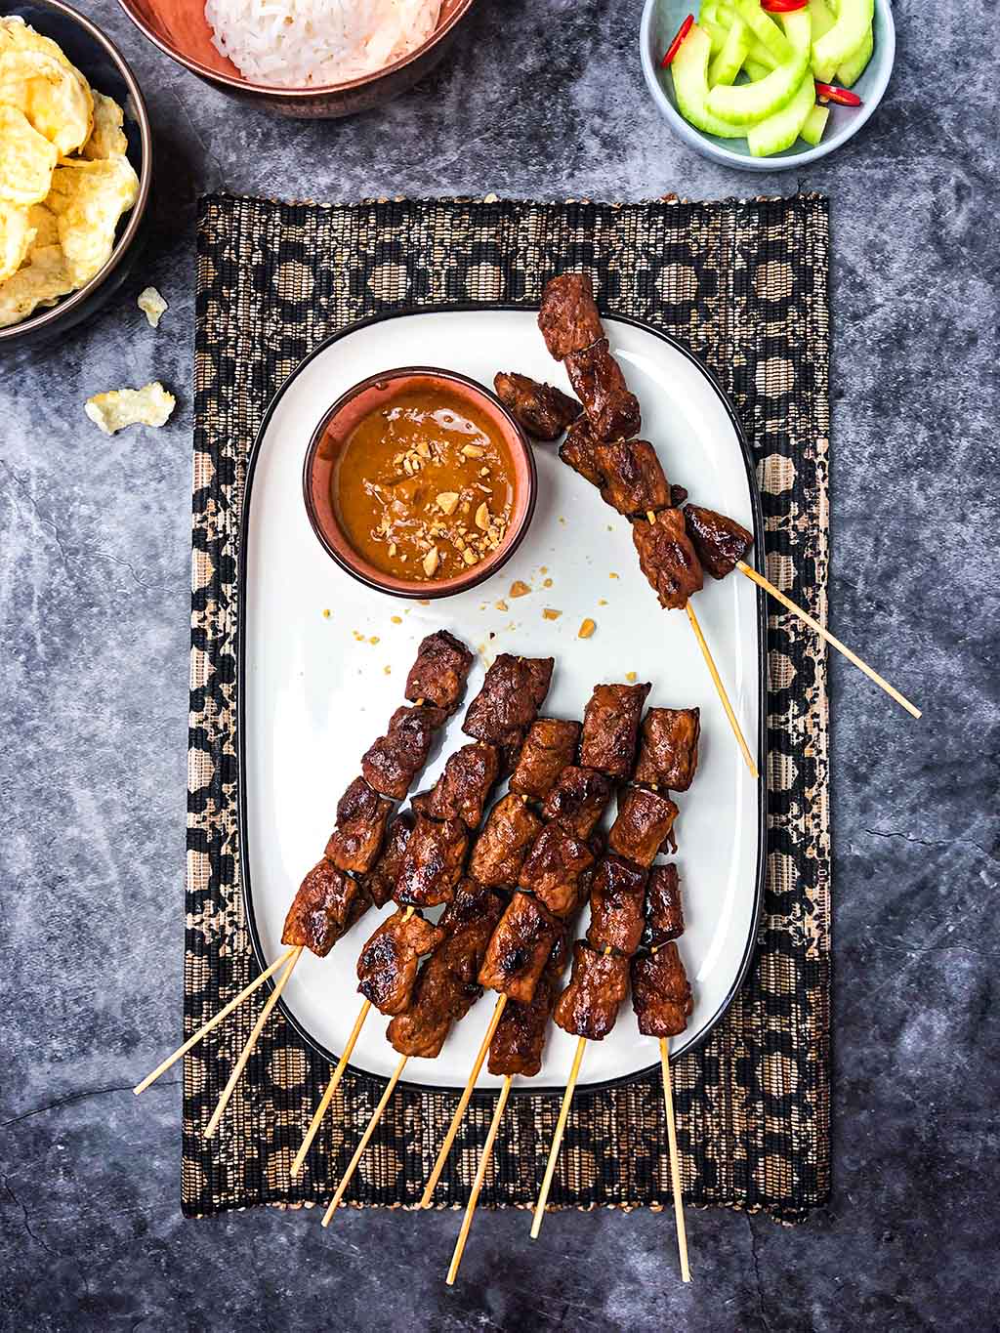sate: (148, 633, 712, 1295), (495, 275, 930, 782)
